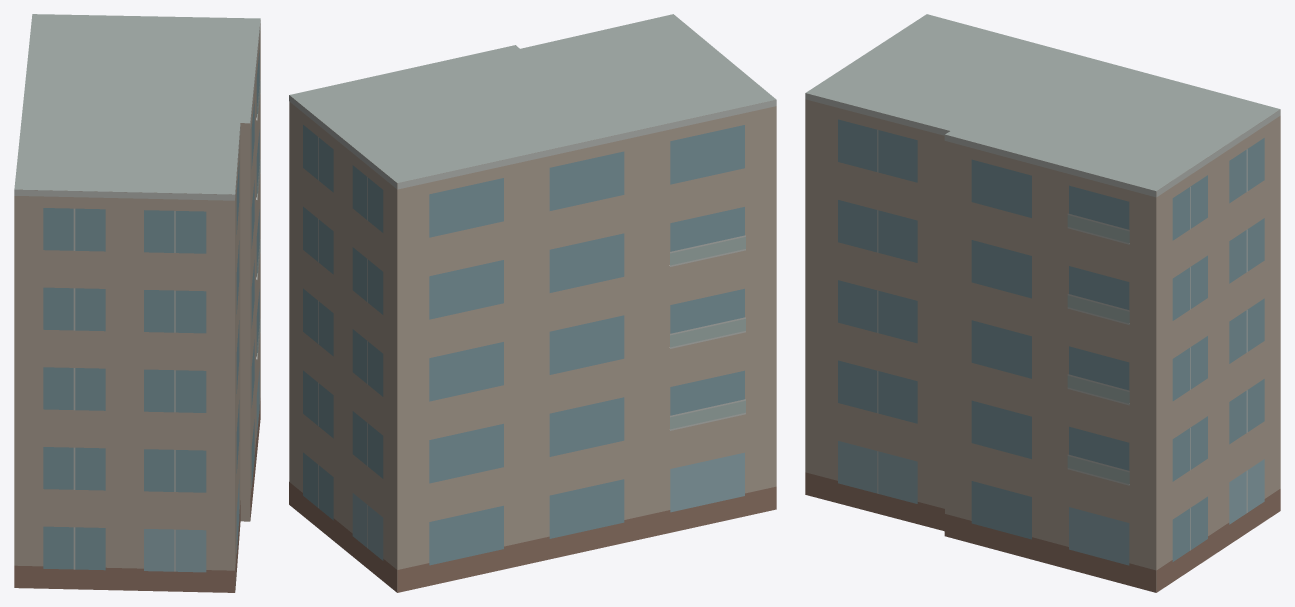
File: survey-upis-32980375.glb
The picture shows the model from 3 angles, left to right: view 1: azimuth 30°, elevation 25°; view 2: azimuth 150°, elevation 25°; view 3: azimuth 270°, elevation 25°; orthographic projection. The views are drawn at different scales.
Parts seen in each view (by area): view 1: survey-upis-32980375.tmp; view 2: survey-upis-32980375.tmp; view 3: survey-upis-32980375.tmp.
Part boxes in pixels (x1,y1,x2,y2): survey-upis-32980375.tmp: (14,14,260,592); survey-upis-32980375.tmp: (289,14,776,592); survey-upis-32980375.tmp: (805,14,1280,592).
Bounding box in the file's own units: 14.77 × 15.6 × 16.74.
